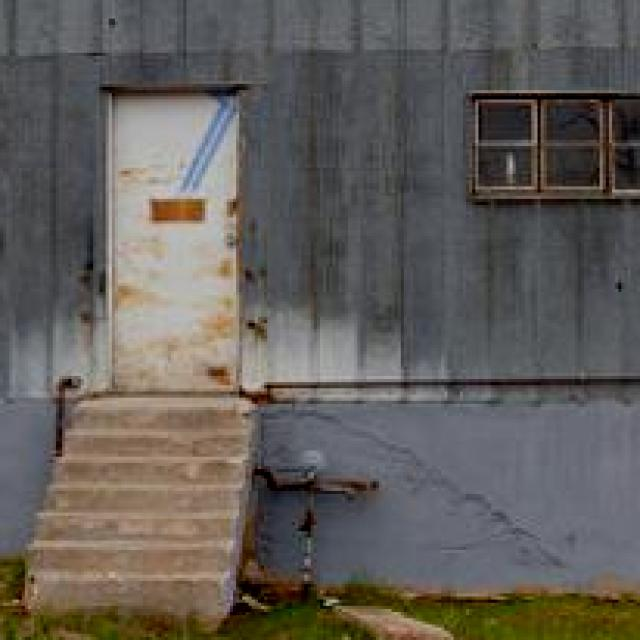upstair: (32, 386, 256, 619)
